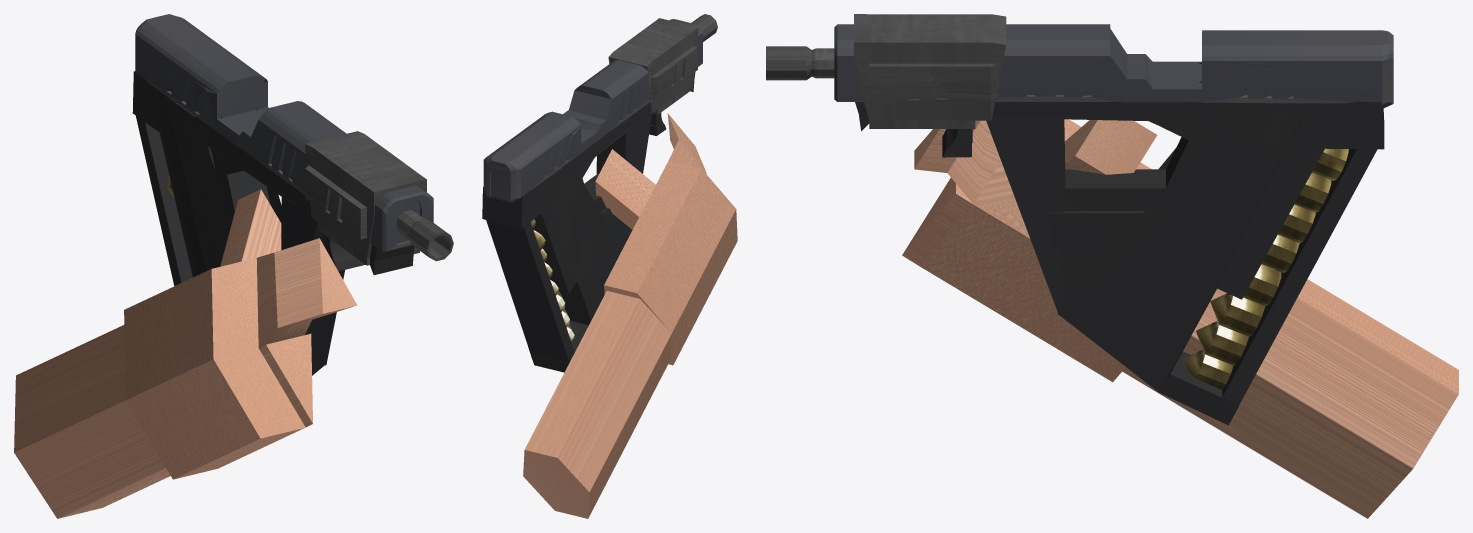
Rendered from Gun Model WIth Hand.fbx.
The picture shows the model from 3 angles, left to right: view 1: azimuth 30°, elevation 25°; view 2: azimuth 150°, elevation 25°; view 3: azimuth 270°, elevation 25°; orthographic projection. The views are drawn at different scales.
Visible parts, largest first — view 1: pCylinder1, Barrel, pCube5, barrel_design, pCube4, sliencer, pCube1; view 2: pCylinder1, pCube5, Barrel, barrel_design, pCube4, pCube1, sliencer; view 3: pCylinder1, pCube5, Barrel, barrel_design, pCube4, pCube1, sliencer, bullet6, bullet7, bullet8, bullet5, bullet2 (+3 smaller).
Part boxes in pixels (x1=…): pCylinder1: x1=14, y1=189, x2=357, y2=518; Barrel: x1=135, y1=14, x2=433, y2=251; pCube5: x1=132, y1=71, x2=326, y2=375; barrel_design: x1=305, y1=131, x2=426, y2=265; pCube4: x1=195, y1=111, x2=414, y2=368; sliencer: x1=396, y1=210, x2=453, y2=261; pCube1: x1=211, y1=108, x2=270, y2=267; pCylinder1: x1=523, y1=113, x2=737, y2=518; pCube5: x1=482, y1=157, x2=621, y2=372; Barrel: x1=483, y1=19, x2=702, y2=202; barrel_design: x1=608, y1=18, x2=698, y2=114; pCube4: x1=547, y1=72, x2=695, y2=237; pCube1: x1=577, y1=158, x2=629, y2=288; sliencer: x1=691, y1=14, x2=717, y2=41; pCylinder1: x1=902, y1=119, x2=1458, y2=518; pCube5: x1=1057, y1=101, x2=1384, y2=425; Barrel: x1=834, y1=24, x2=1393, y2=108; barrel_design: x1=854, y1=14, x2=1006, y2=128; pCube4: x1=855, y1=102, x2=1218, y2=315; pCube1: x1=1047, y1=62, x2=1218, y2=310; sliencer: x1=766, y1=46, x2=834, y2=80; bullet6: x1=1210, y1=293, x2=1264, y2=336; bullet7: x1=1196, y1=321, x2=1248, y2=365; bullet8: x1=1182, y1=349, x2=1233, y2=389; bullet5: x1=1243, y1=264, x2=1281, y2=306; bullet2: x1=1295, y1=172, x2=1331, y2=212.
Bounding box in the file's own units: 1.86 × 5.14 × 6.14.
Materials: 5 (5 with a texture image).
